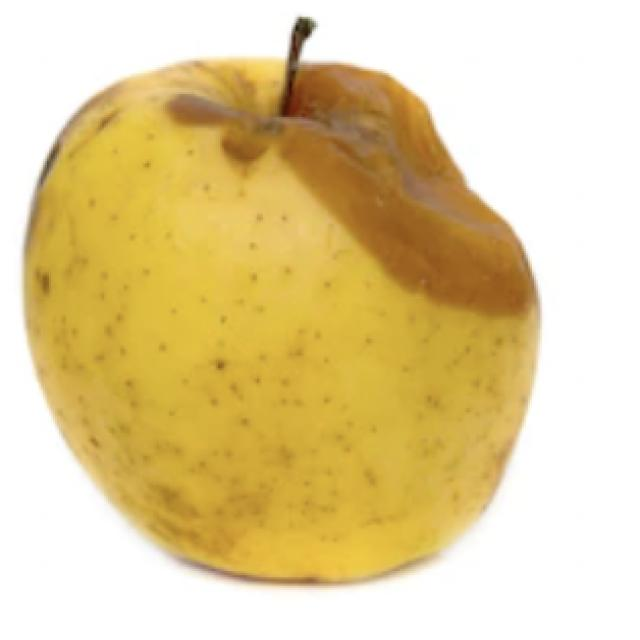rotten_apple: (24, 24, 542, 580)
